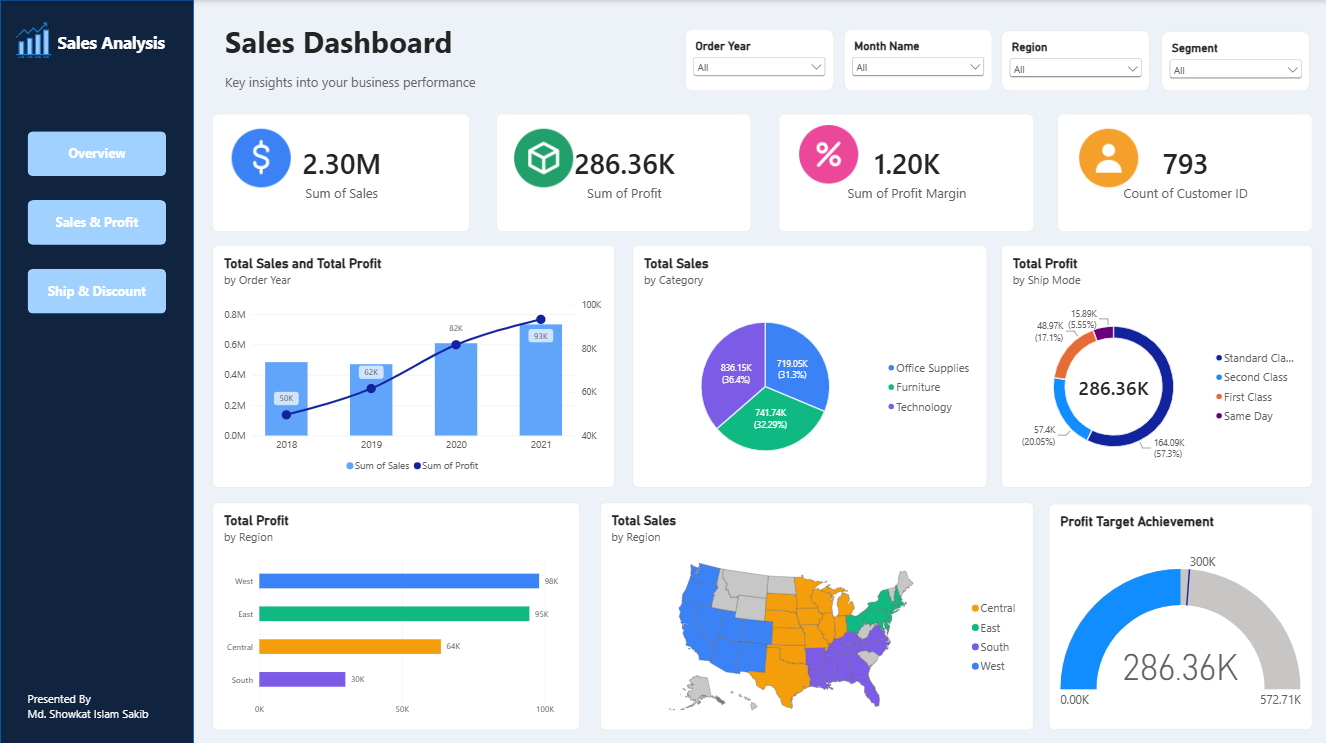

What the dashboard file says about the page in this screenshot:
{"tool":"powerbi","page":{"name":"Overview","canvas":[1920,1080],"ordinal":0},"visuals":[{"type":"shape","box":[0,0,280.5,1080.4],"z":0},{"type":"textbox","box":[83.2,45.2,181,43.4],"z":1000},{"type":"image","box":[14.5,30.8,68.8,54.3],"z":2000},{"type":"textbox","box":[325.7,30.8,564.6,115.8],"z":3000},{"type":"shape","box":[992.3,41.6,215.3,90.5],"z":4000},{"type":"slicer","fields":{"Values":["Orders.Order Year"]},"box":[999.3,56.1,200.9,67],"z":5000},{"type":"shape","box":[1221.9,41.7,215.3,90.5],"z":6000},{"type":"slicer","fields":{"Values":["Orders.Month Name"]},"box":[1229.4,56,200.9,67],"z":7000},{"type":"shape","box":[1449.9,44.2,215.3,88.7],"z":8000},{"type":"slicer","fields":{"Values":["Customer Name.Region"]},"box":[1457.4,58.1,200.9,67],"z":9000},{"type":"shape","box":[1681.5,46,215.3,86.9],"z":10000},{"type":"slicer","fields":{"Values":["Customer Name.Segment"]},"box":[1689,59.6,200.9,67],"z":11000},{"type":"cardVisual","fields":{"Data":["Sum(Orders.Sales)"]},"box":[307.6,164.3,372.8,171.9],"z":12000},{"type":"image","box":[325.7,186.2,105,85.1],"z":13000},{"type":"cardVisual","fields":{"Data":["Sum(Orders.Profit)"]},"box":[718.4,164.3,369.2,171.9],"z":14000},{"type":"cardVisual","fields":{"Data":["Sum(Orders.Profit Margin)"]},"box":[1127.4,164.3,369.2,171.9],"z":15000},{"type":"cardVisual","fields":{"Data":["Count(Orders.Customer ID)"]},"box":[1531,164.3,369.2,171.9],"z":16000},{"type":"image","box":[734.7,186.2,105,85.1],"z":17000},{"type":"image","box":[1147.3,180.8,105,85.1],"z":18000},{"type":"image","box":[1552.7,186.2,105,85.1],"z":19000},{"type":"pieChart","title":"Total Sales","fields":{"Category":["Orders.Category"],"Y":["Sum(Orders.Sales)"]},"box":[915.7,354.7,513.9,351.1],"z":20000},{"type":"lineClusteredColumnComboChart","title":"Total Sales and Total Profit","fields":{"Category":["Orders.Order Year"],"Y":["Sum(Orders.Sales)"],"Y2":["Sum(Orders.Profit)"]},"box":[307.6,354.4,582.7,351.1],"z":21000},{"type":"clusteredBarChart","title":"Total Profit","fields":{"Category":["Customer Name.Region"],"Y":["Sum(Orders.Profit)"]},"box":[307.6,727.5,532,329.4],"z":22000},{"type":"shapeMap","title":"Total Sales","fields":{"Category":["Customer Name.State"],"Series":["Customer Name.Region"],"Value":["Sum(Orders.Sales)"]},"box":[868.6,727.5,628,329.4],"z":23000},{"type":"donutChart","title":"Total Profit","fields":{"Category":["Orders.Ship Mode"],"Y":["Sum(Orders.Profit)"]},"box":[1449.5,354.7,450.6,351.1],"z":24000},{"type":"gauge","title":"Profit Target Achievement","fields":{"TargetValue":["Orders.Target"],"Y":["Sum(Orders.Profit)"]},"box":[1518.3,729.3,381.8,327.5],"z":25000},{"type":"actionButton","box":[39.8,190,200.9,65.1],"z":26000},{"type":"actionButton","box":[39.8,289.5,200.9,65.1],"z":27000},{"type":"actionButton","box":[39.8,389.1,200.9,65.1],"z":28000},{"type":"textbox","box":[39.8,1000.7,191.8,56.1],"z":29000}]}

Visuals, with their boxes in screenshot pixels (x1, y1, x2, y2), scaled from the page's 1920x1080 canvas onto the 1326x743 screenshot:
shape: <region>0, 0, 194, 742</region>
textbox: <region>57, 31, 182, 61</region>
image: <region>10, 21, 58, 59</region>
textbox: <region>225, 21, 615, 101</region>
shape: <region>685, 29, 834, 91</region>
slicer - Orders.Order Year: <region>690, 39, 829, 85</region>
shape: <region>844, 29, 993, 91</region>
slicer - Orders.Month Name: <region>849, 39, 988, 85</region>
shape: <region>1001, 30, 1150, 91</region>
slicer - Customer Name.Region: <region>1007, 40, 1145, 86</region>
shape: <region>1161, 32, 1310, 91</region>
slicer - Customer Name.Segment: <region>1166, 41, 1305, 87</region>
cardVisual - Sum(Orders.Sales): <region>212, 113, 470, 231</region>
image: <region>225, 128, 297, 187</region>
cardVisual - Sum(Orders.Profit): <region>496, 113, 751, 231</region>
cardVisual - Sum(Orders.Profit Margin): <region>779, 113, 1034, 231</region>
cardVisual - Count(Orders.Customer ID): <region>1057, 113, 1312, 231</region>
image: <region>507, 128, 580, 187</region>
image: <region>792, 124, 865, 183</region>
image: <region>1072, 128, 1145, 187</region>
"Total Sales" pieChart: <region>632, 244, 987, 486</region>
"Total Sales and Total Profit" lineClusteredColumnComboChart: <region>212, 244, 615, 485</region>
"Total Profit" clusteredBarChart: <region>212, 500, 580, 727</region>
"Total Sales" shapeMap: <region>600, 500, 1034, 727</region>
"Total Profit" donutChart: <region>1001, 244, 1312, 486</region>
"Profit Target Achievement" gauge: <region>1049, 502, 1312, 727</region>
actionButton: <region>27, 131, 166, 175</region>
actionButton: <region>27, 199, 166, 244</region>
actionButton: <region>27, 268, 166, 312</region>
textbox: <region>27, 688, 160, 727</region>
